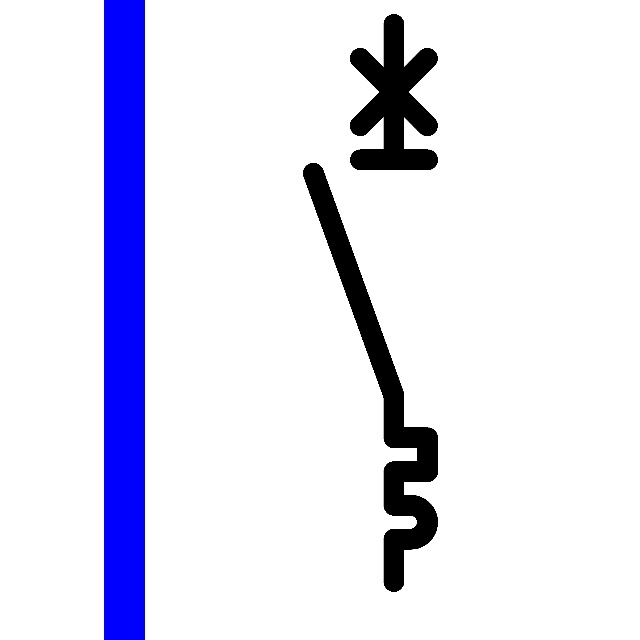interruptor_termomagnetico: (299, 10, 442, 596)
